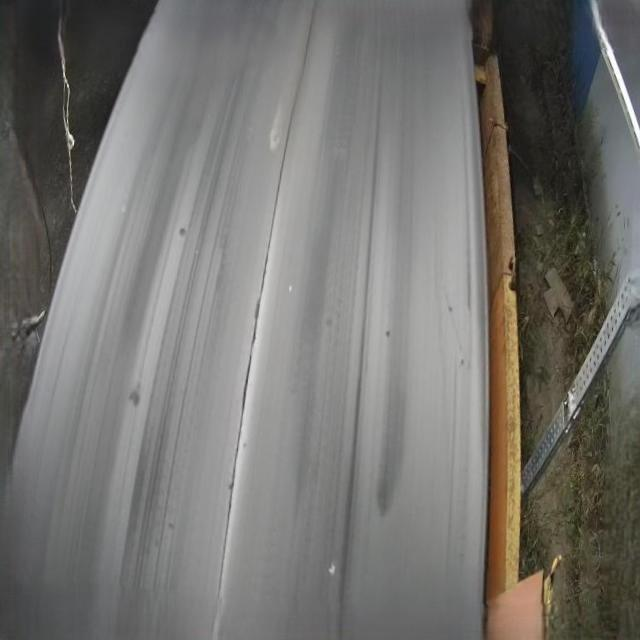Tear: (213, 0, 320, 603)
